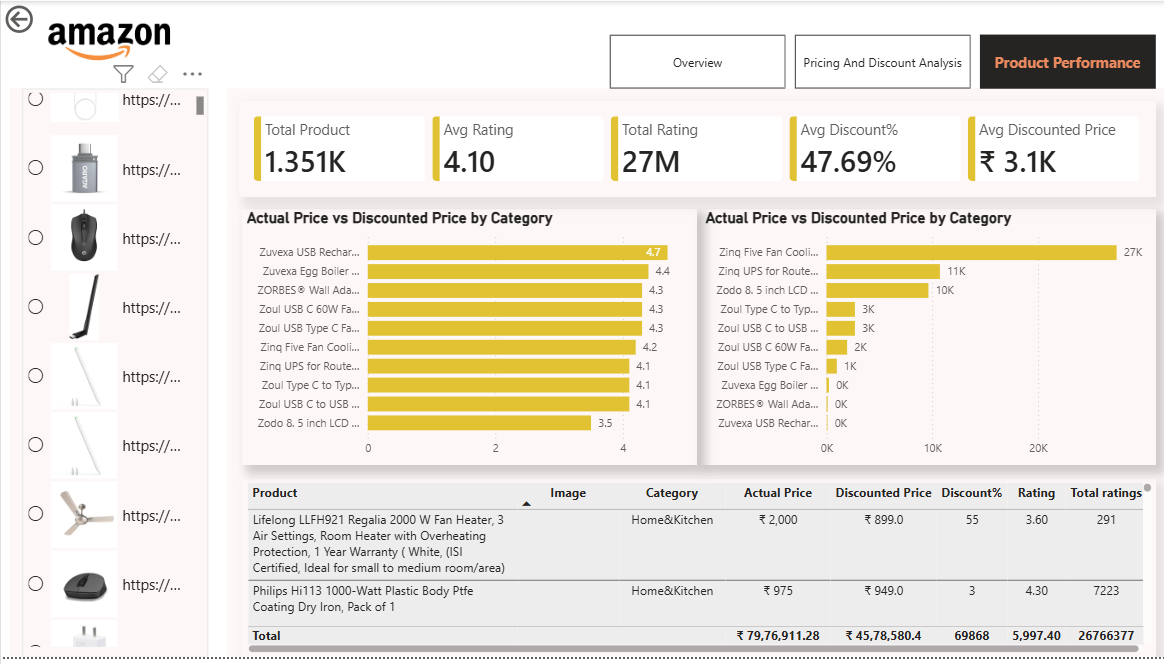

The page's visual inventory and layout, read from the dashboard file:
{"tool":"powerbi","page":{"name":"Product Performance ","canvas":[1280,720],"ordinal":2},"visuals":[{"type":"shape","box":[9.6,96.1,218.2,624.4],"z":0},{"type":"shape","box":[248.4,96.1,1031.9,624.4],"z":1000},{"type":"cardVisual","fields":{"Data":["Count(amazon.product_id)","Avg(amazon.rating)","Sum(amazon.rating_count)","Avg(amazon.discount_percentage)","Avg(amazon.discounted_price)"]},"box":[260.7,109.8,1007.2,105.7],"z":2000},{"type":"barChart","title":"Actual Price vs Discounted Price by Category","fields":{"Category":["amazon.product_name"],"Y":["Avg(amazon.rating)"]},"box":[264.8,227.8,499.5,281.3],"z":3000},{"type":"listSlicer","fields":{"Values":["amazon.img_link"]},"box":[23.3,96.1,204.5,624.4],"z":4000},{"type":"image","box":[9.6,1.4,218.2,78.2],"z":5000},{"type":"barChart","title":"Actual Price vs Discounted Price by Category","fields":{"Category":["amazon.product_name"],"Y":["Sum(amazon.rating_count)"]},"box":[768.4,227.8,499.5,281.3],"z":6000},{"type":"tableEx","fields":{"Values":["amazon.product_name","amazon.img_link","amazon.category.1","Sum(amazon.actual_price)","Sum(amazon.discounted_price)","Sum(amazon.Discount%)","Sum(amazon.rating)","Sum(amazon.rating_count)"]},"box":[264.8,524.2,1003.1,196.2],"z":7000},{"type":"actionButton","box":[0,0,100,40],"z":8000},{"type":"pageNavigator","box":[668.3,37,599.7,59],"z":9000}]}

Visuals, with their boxes on the page's 1280x720 design canvas (x1, y1, x2, y2). These are canvas units, not pixel positions in the 1164x664 screenshot, which may show the page scaled, cropped or inside an application window:
shape: 10,96,228,720
shape: 248,96,1280,720
cardVisual - Count(amazon.product_id) x Avg(amazon.rating): 261,110,1268,216
"Actual Price vs Discounted Price by Category" barChart: 265,228,764,509
listSlicer - amazon.img_link: 23,96,228,720
image: 10,1,228,80
"Actual Price vs Discounted Price by Category" barChart: 768,228,1268,509
tableEx - amazon.product_name x amazon.img_link: 265,524,1268,720
actionButton: 0,0,100,40
pageNavigator: 668,37,1268,96
